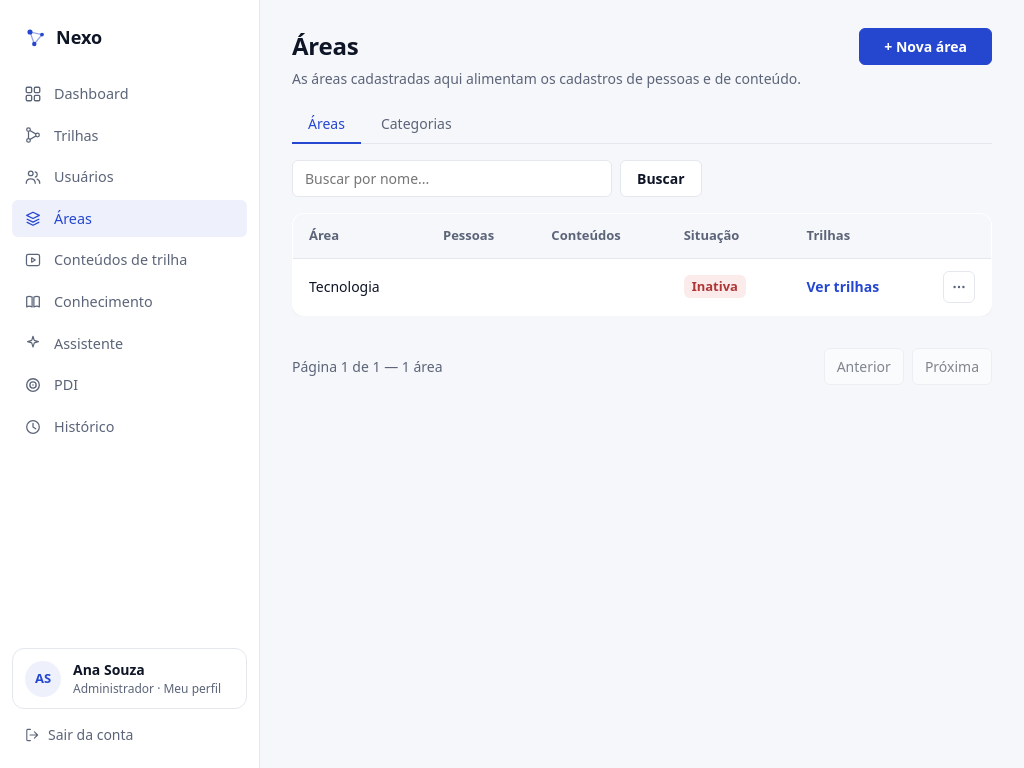
Scenario: router › Categorias fica numa aba de Áreas, não no menu, e marca Áreas no menu
Click the link "Categorias" at (416, 124), box [381,114,452,133]
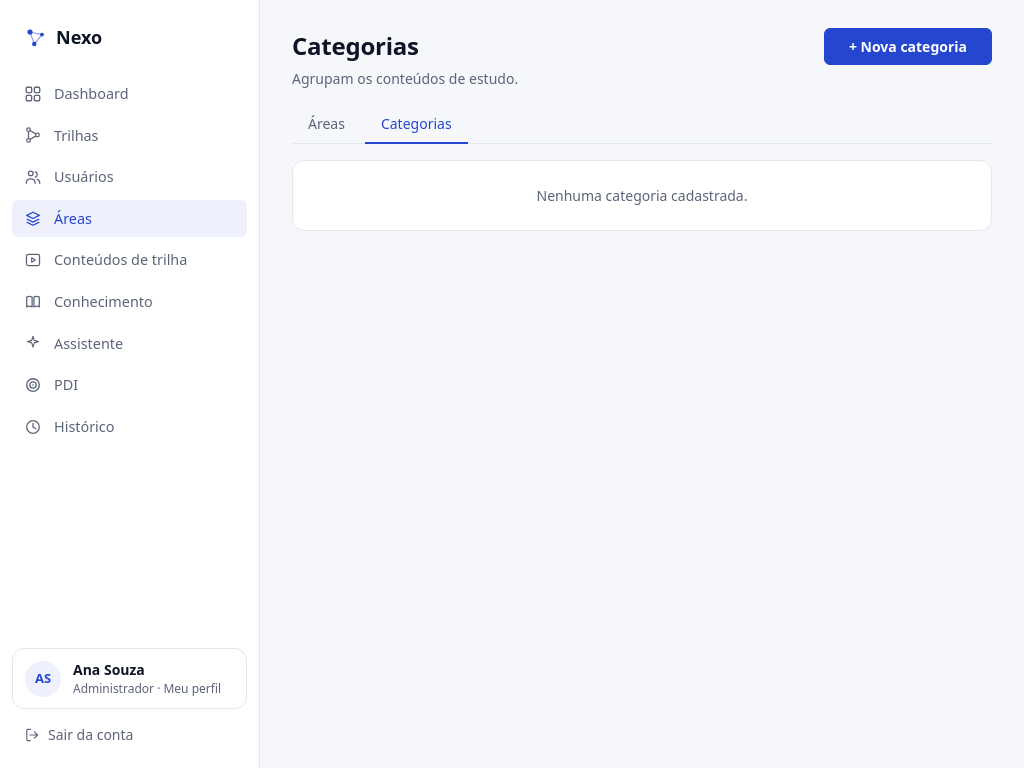
expect the heading "Categorias" is shown: met, box [292,29,419,62]
